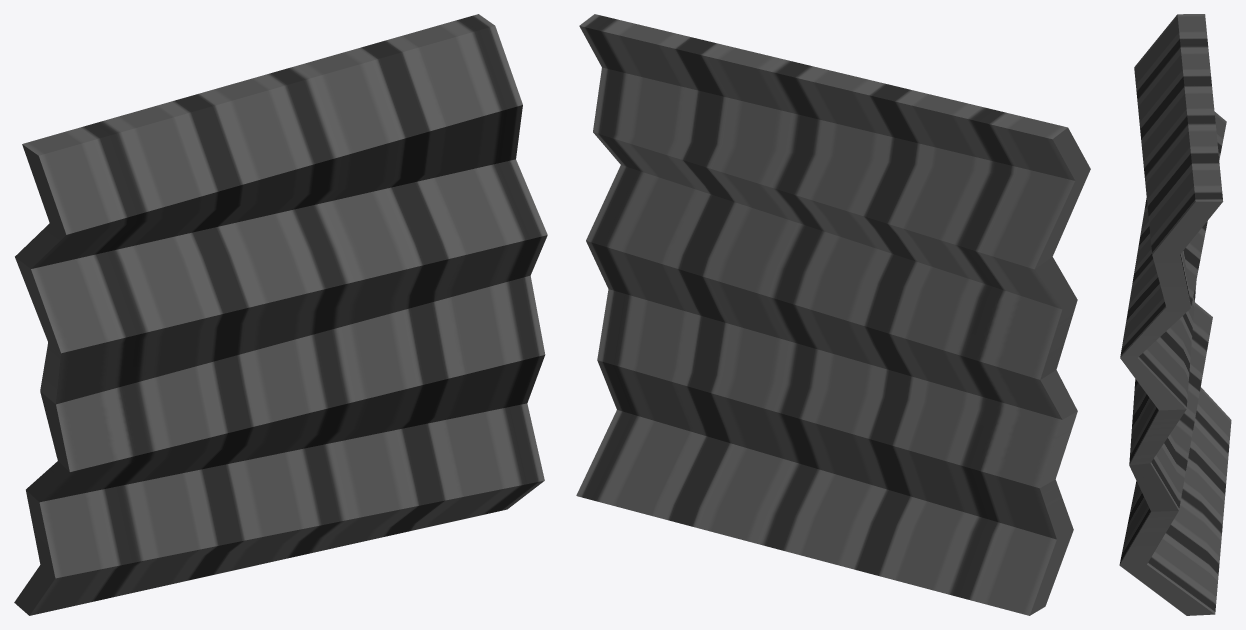
Rendered from item-metal-scrap.glb.
3 renders of one model, left to right at view 1: azimuth 30°, elevation 25°; view 2: azimuth 150°, elevation 25°; view 3: azimuth 270°, elevation 25°, orthographic. The views are drawn at different scales.
Size of the model in its own units: 2.06 by 1.97 by 0.4861.
1 material, 1 textured.
